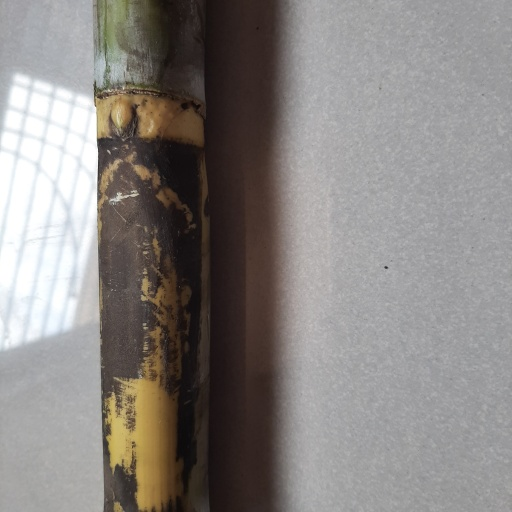Bud: (108, 101, 137, 138)
